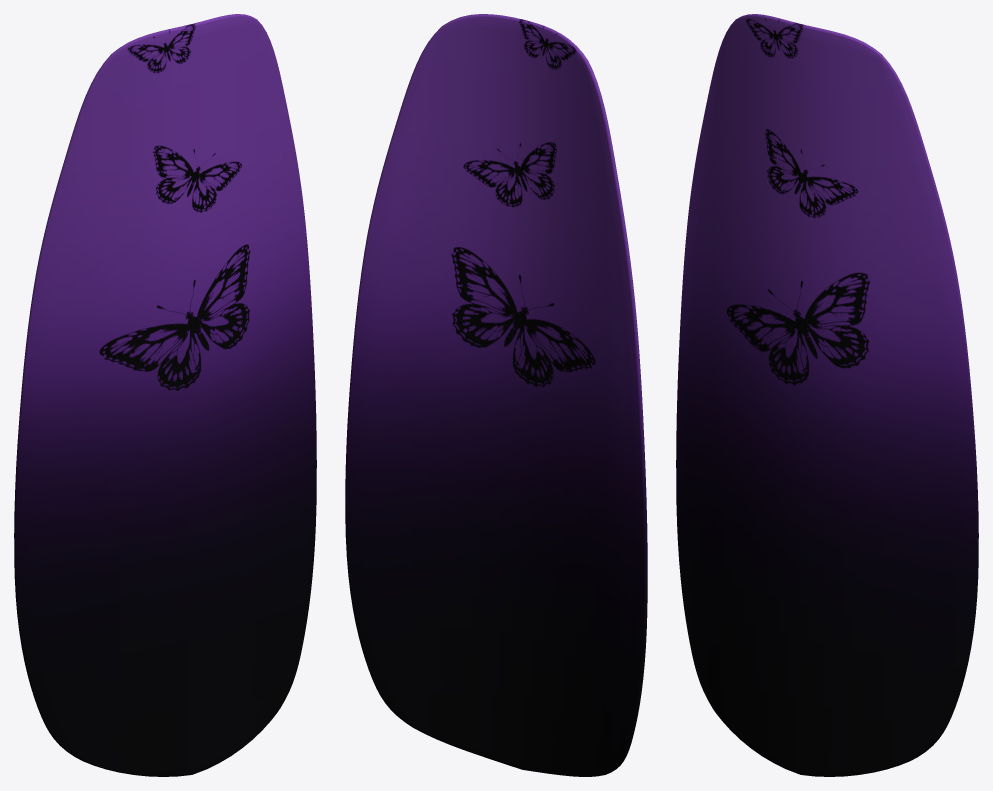
Rendered from nail-base.glb.
3 renders of one model, left to right at view 1: azimuth 30°, elevation 25°; view 2: azimuth 150°, elevation 25°; view 3: azimuth 330°, elevation 25°, orthographic.
Visible parts, largest first — view 1: Ballerina; view 2: Ballerina; view 3: Ballerina.
Boxes of the visible parts, x1=… form: Ballerina: x1=14, y1=14, x2=316, y2=776; Ballerina: x1=345, y1=14, x2=647, y2=776; Ballerina: x1=676, y1=14, x2=978, y2=776.
Bounding box in the file's own units: 0.1957 × 0.4646 × 0.0319.
1 material, 1 textured.
